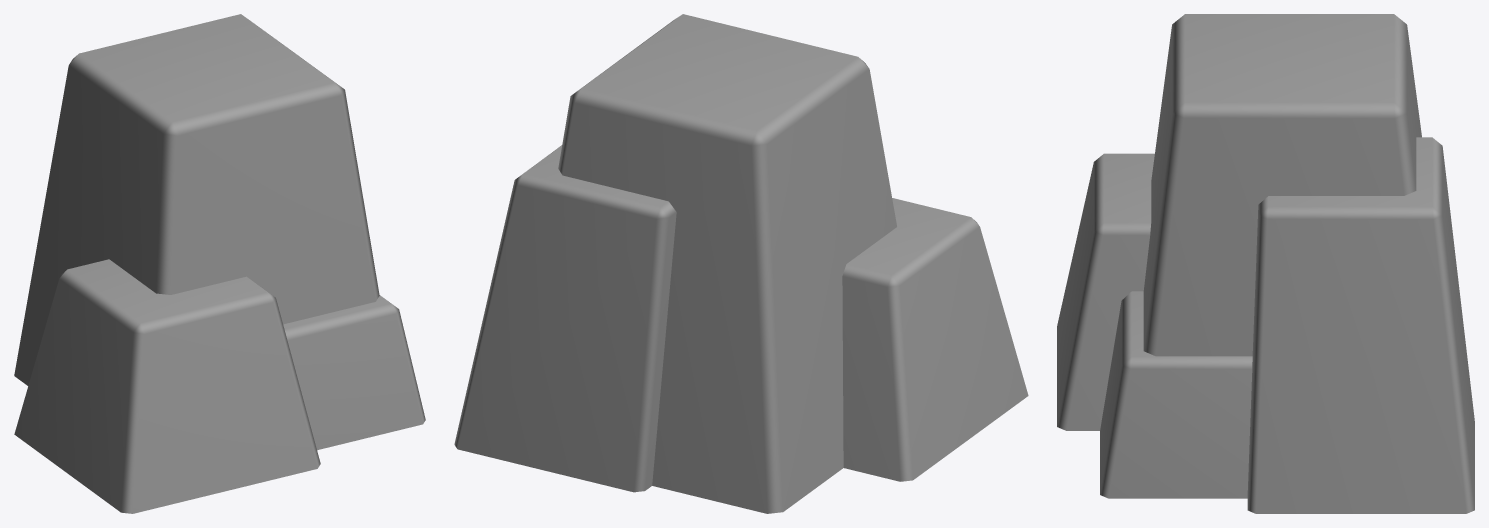
File: Farm_6_Stone_2.glb
The picture shows the model from 3 angles, left to right: view 1: azimuth 30°, elevation 25°; view 2: azimuth 150°, elevation 25°; view 3: azimuth 270°, elevation 25°; orthographic projection. The views are drawn at different scales.
Parts seen in each view (by area): view 1: Farm_6_Stone_2; view 2: Farm_6_Stone_2; view 3: Farm_6_Stone_2.
Part boxes in pixels (x1=…): Farm_6_Stone_2: x1=14, y1=14, x2=425, y2=513; Farm_6_Stone_2: x1=454, y1=14, x2=1028, y2=513; Farm_6_Stone_2: x1=1057, y1=14, x2=1474, y2=513.
Size of the model in its own units: 1.39 by 1.23 by 1.28.
1 material, 1 textured.
